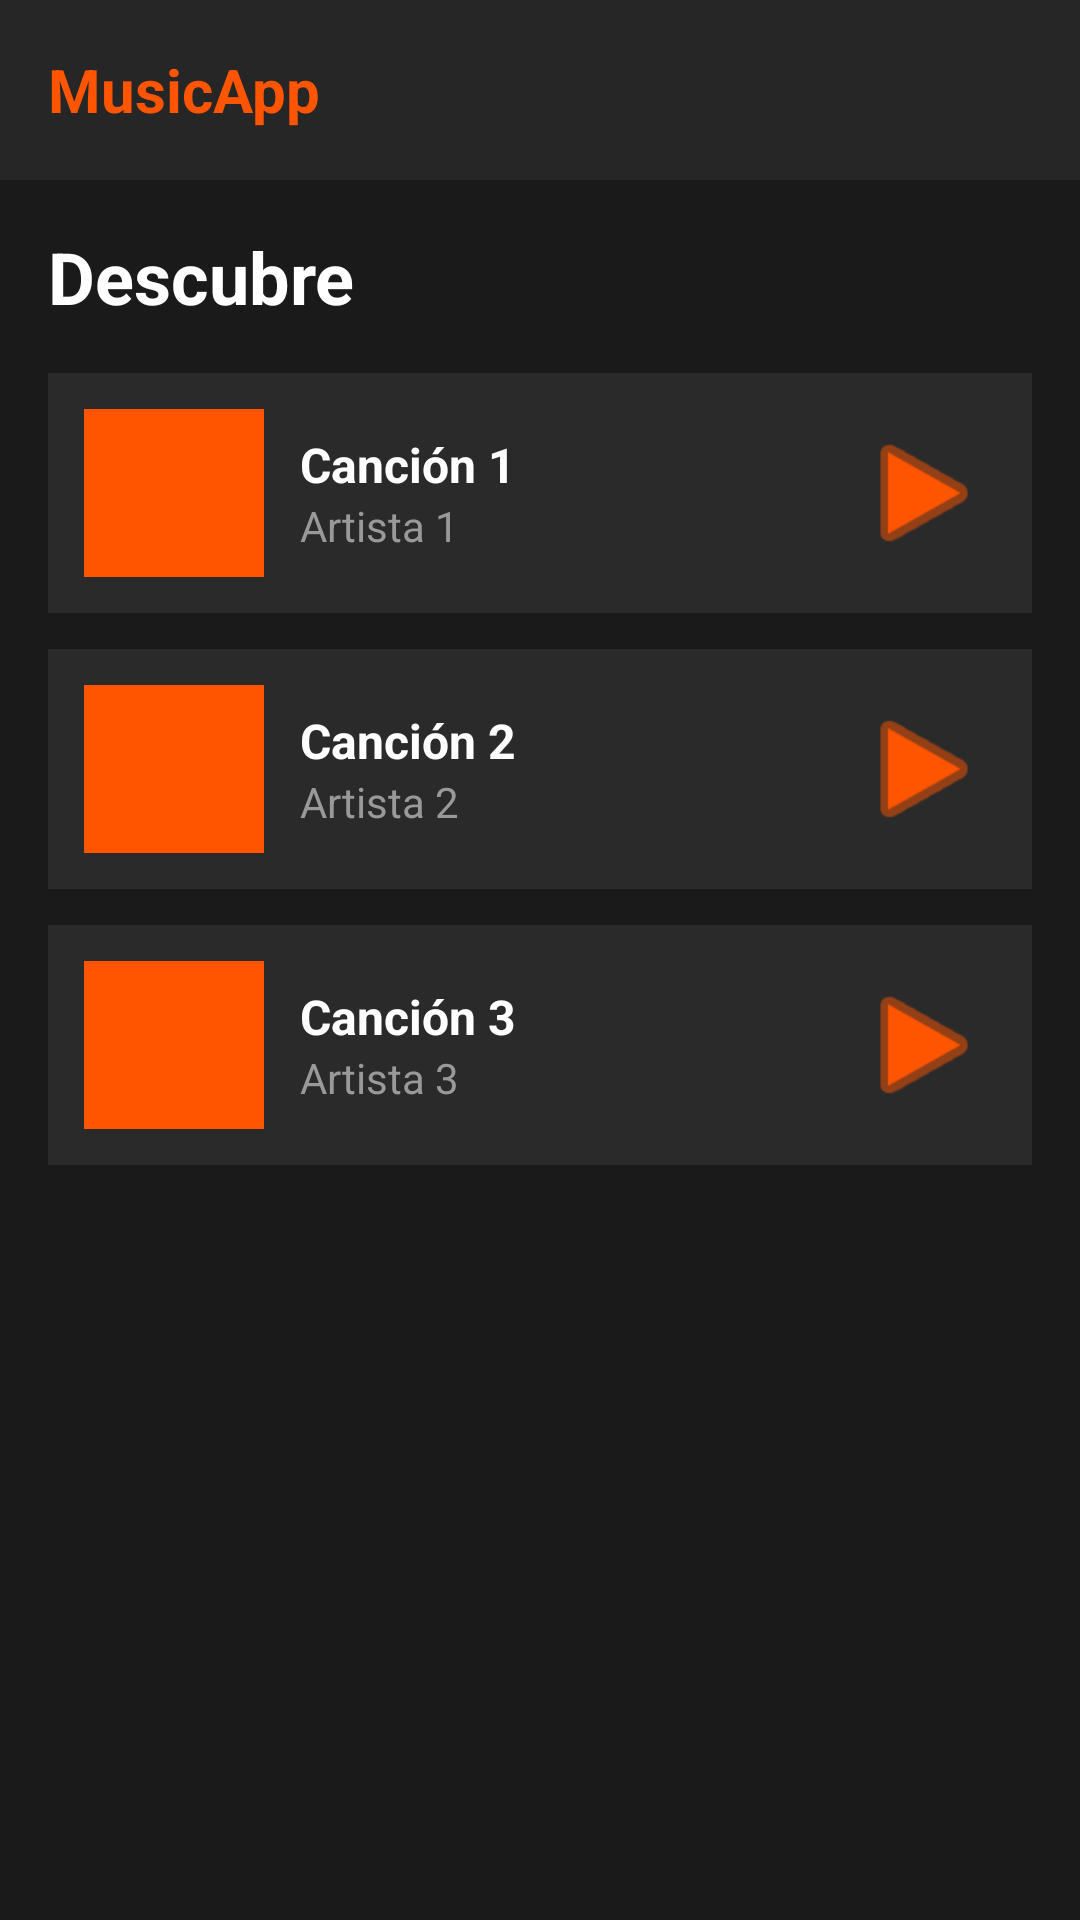

Where icons sit on this 1080x1920 app screen, as bbox(x1, y1, x2, y2):
play: bbox(880, 445, 968, 541), bbox(880, 721, 968, 817), bbox(880, 997, 968, 1093)
